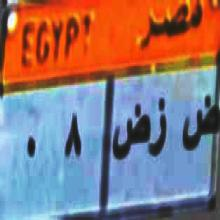0: (24, 131, 39, 165)
8: (66, 111, 83, 160)
daad: (114, 97, 148, 171), (180, 88, 218, 154)
zay: (151, 96, 168, 161)
